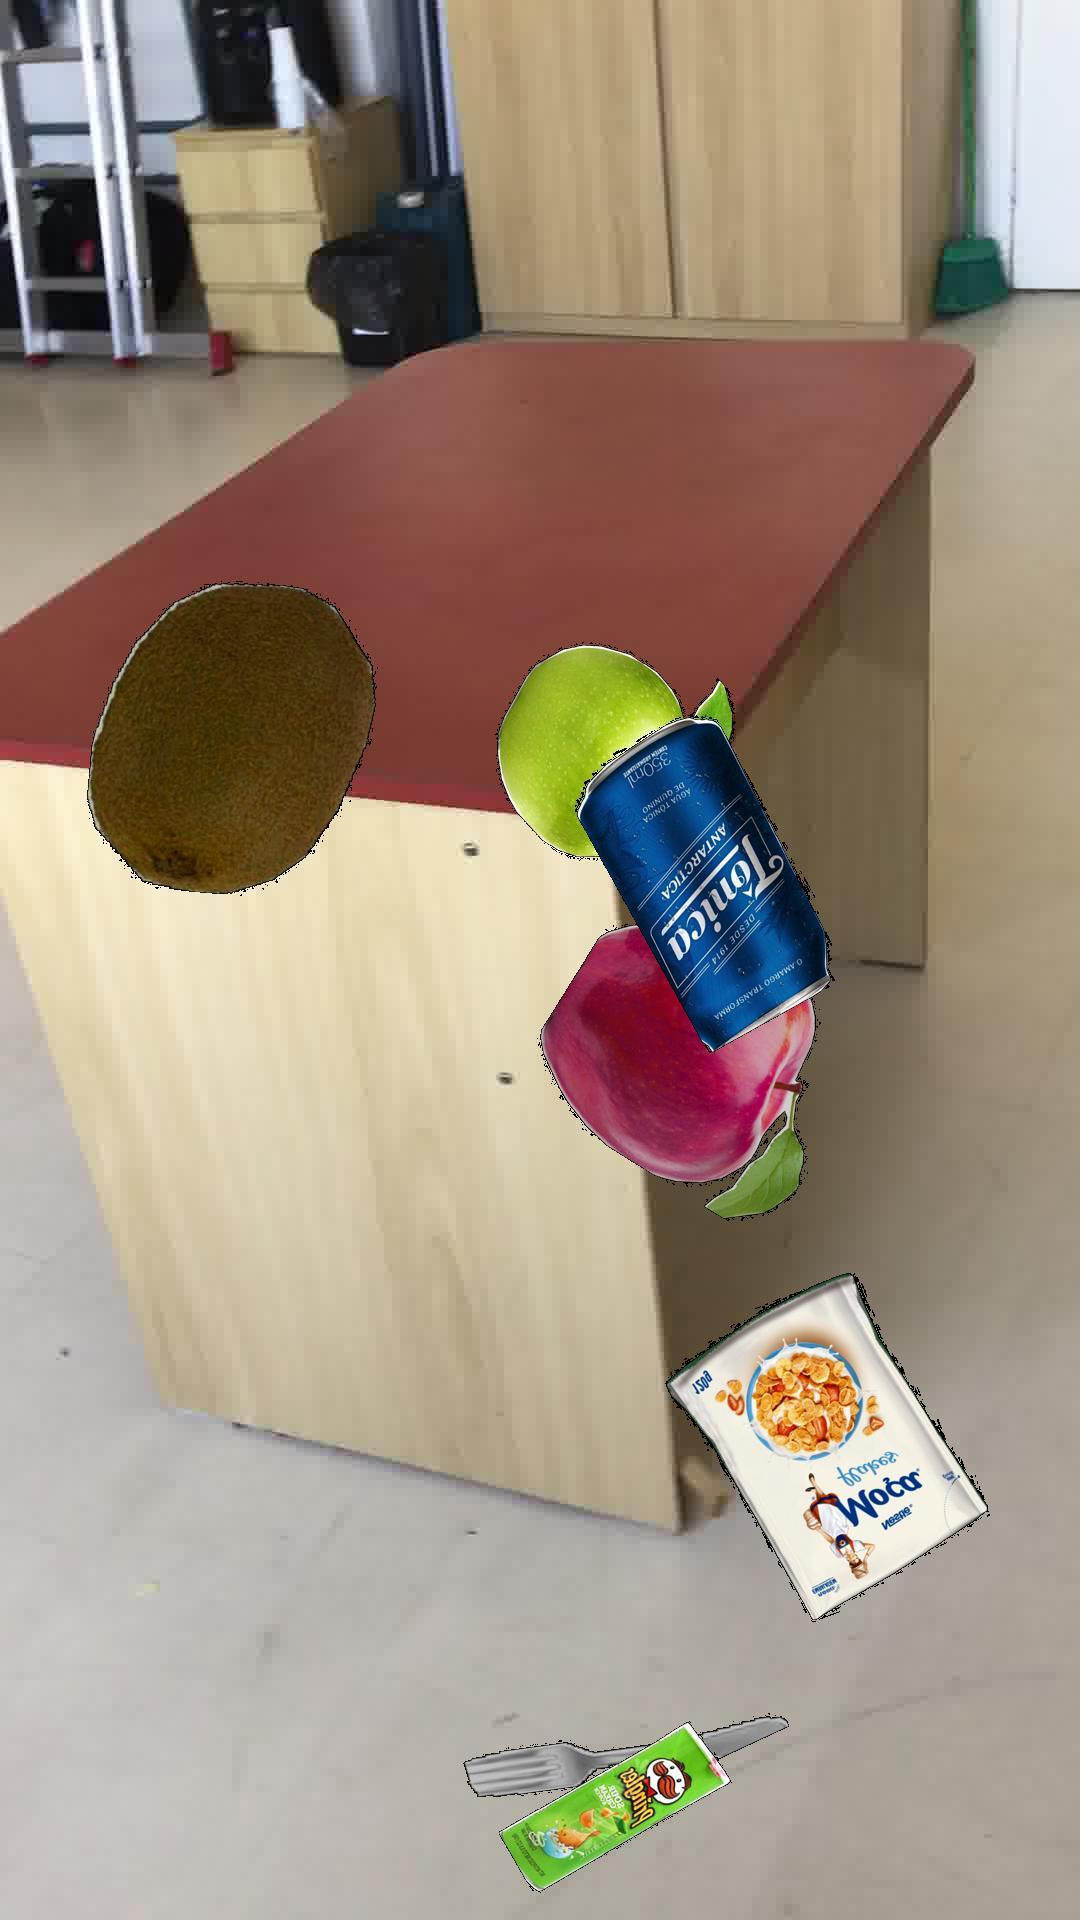apple: (538, 923, 816, 1220)
corn flakes: (663, 1271, 988, 1618)
fork: (462, 1714, 787, 1796)
green apple: (493, 644, 735, 857)
kiwi: (86, 582, 375, 893)
pringles: (497, 1721, 729, 1891)
tonic: (574, 712, 833, 1051)
